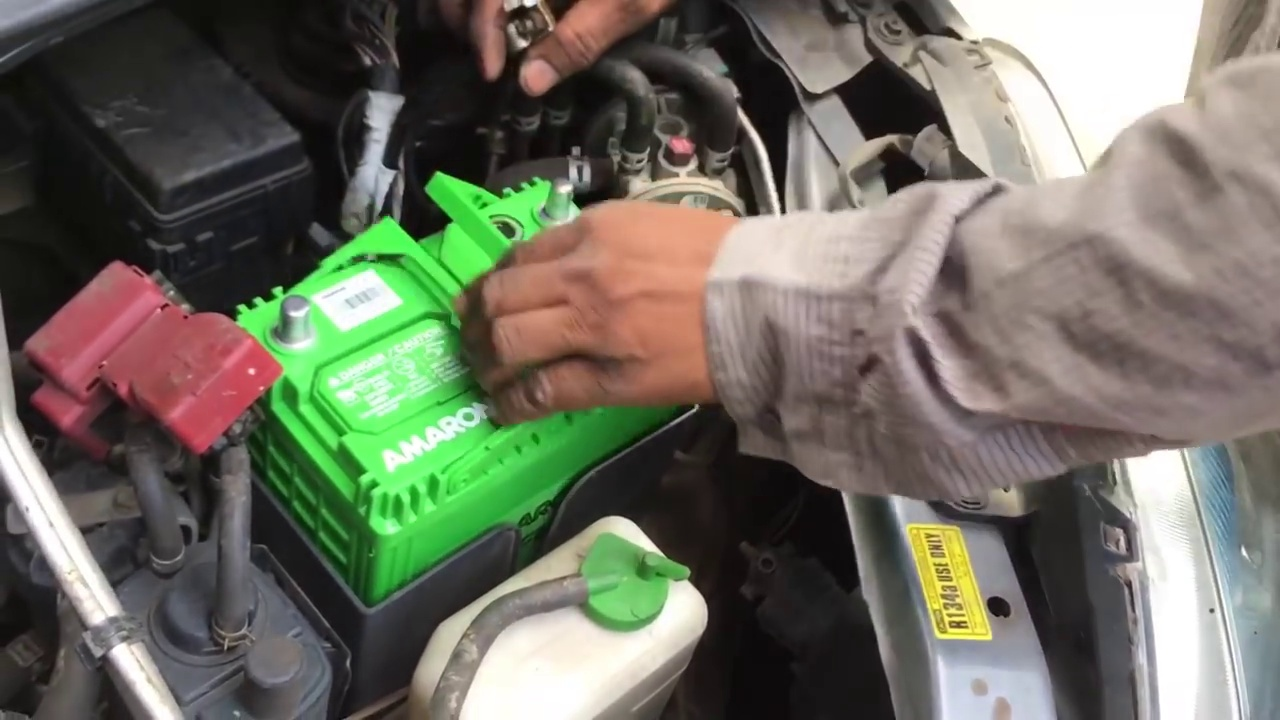battery: (223, 188, 631, 496)
neg_disconnected: (506, 130, 623, 260)
pos_disconnected: (132, 250, 338, 429)
